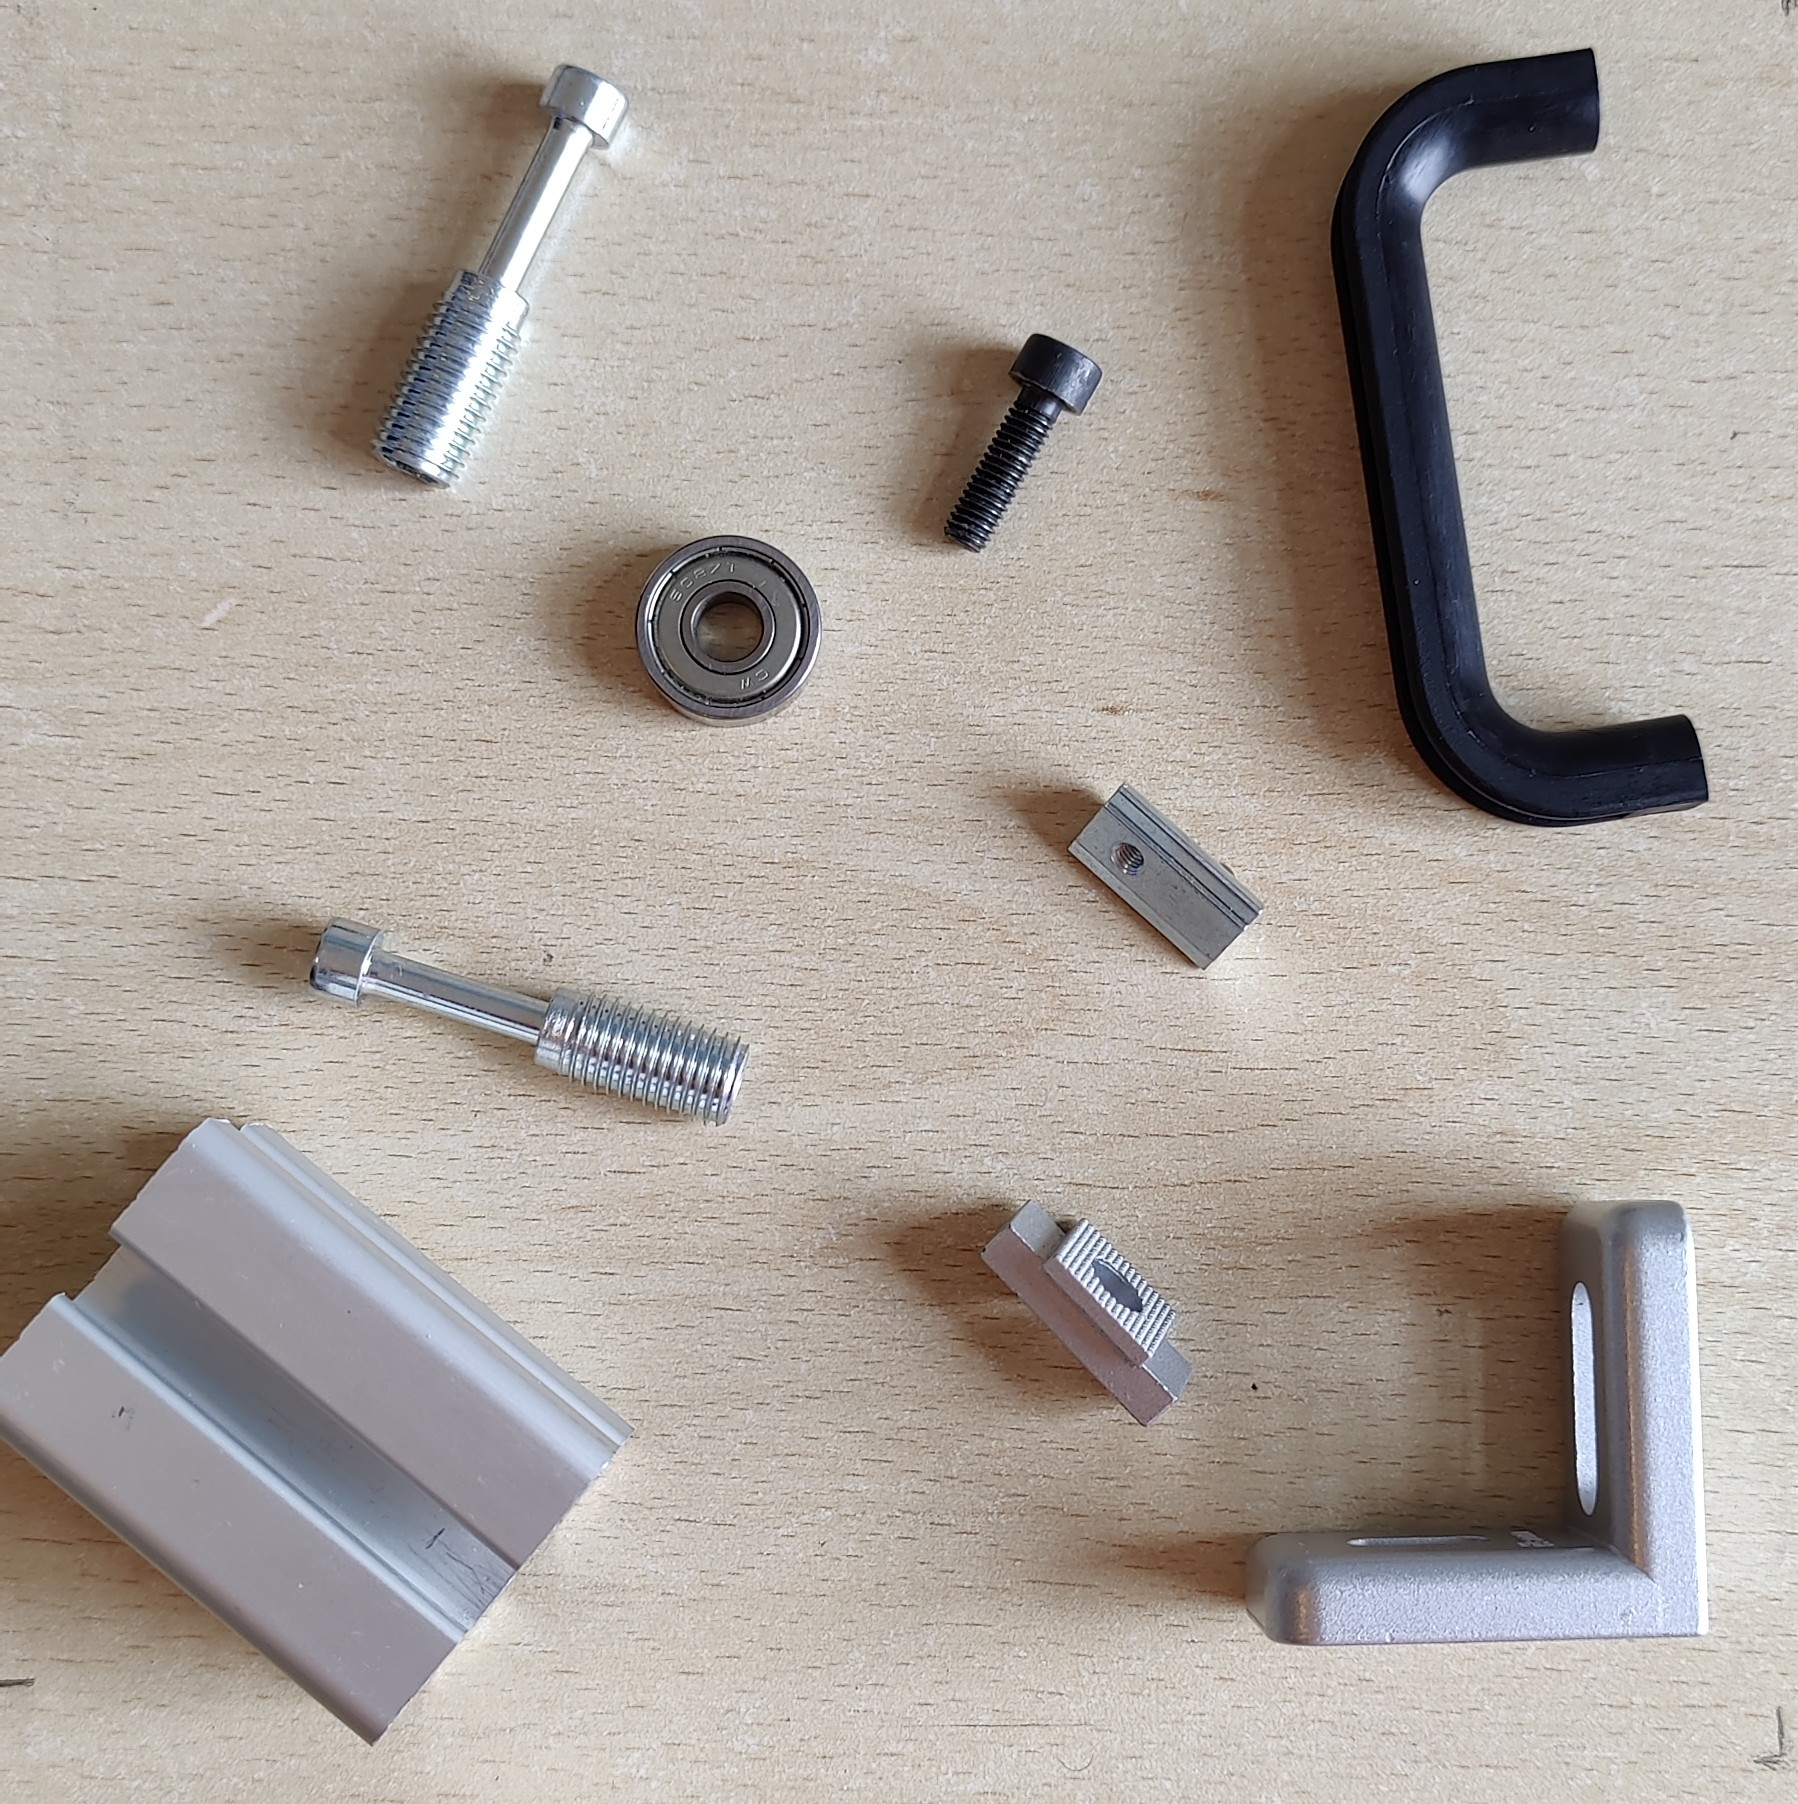Aluminium Extension: (2, 1113, 639, 1751)
Ball Bearing: (636, 533, 827, 729)
Multiwinkel: (1237, 1197, 1711, 1651)
Pull Handle: (1325, 44, 1711, 830)
Shoulder Socket Head Cap Screw: (369, 56, 629, 494), (306, 912, 756, 1131)
Socket Head Cap Screw: (939, 328, 1103, 555)
T Nut Square: (978, 1197, 1199, 1430)
T Spring Nut: (1067, 777, 1268, 974)
